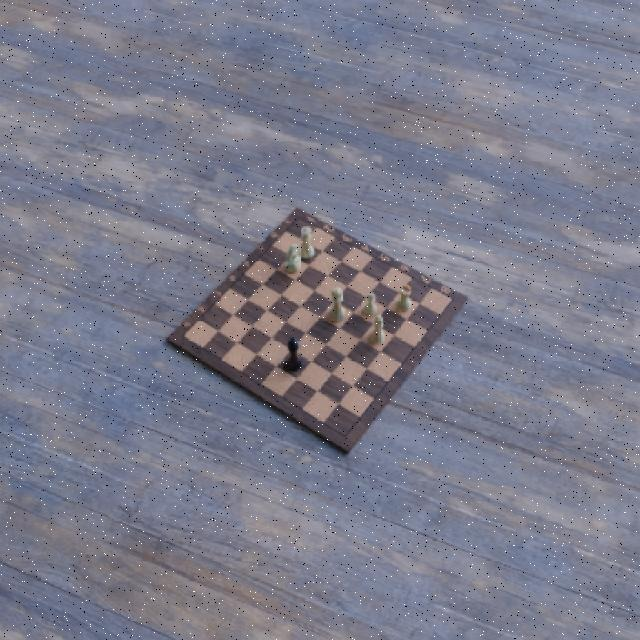black-king: (285, 336, 303, 372)
white-bishop: (369, 315, 385, 345)
white-king: (326, 286, 345, 322)
white-knight: (285, 242, 302, 273)
white-pawn: (362, 291, 378, 316)
white-queen: (298, 226, 313, 260)
white-rook: (396, 284, 411, 312)
